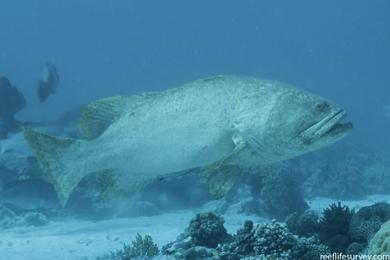Serranidae -Groupers-: (20, 69, 355, 206)
